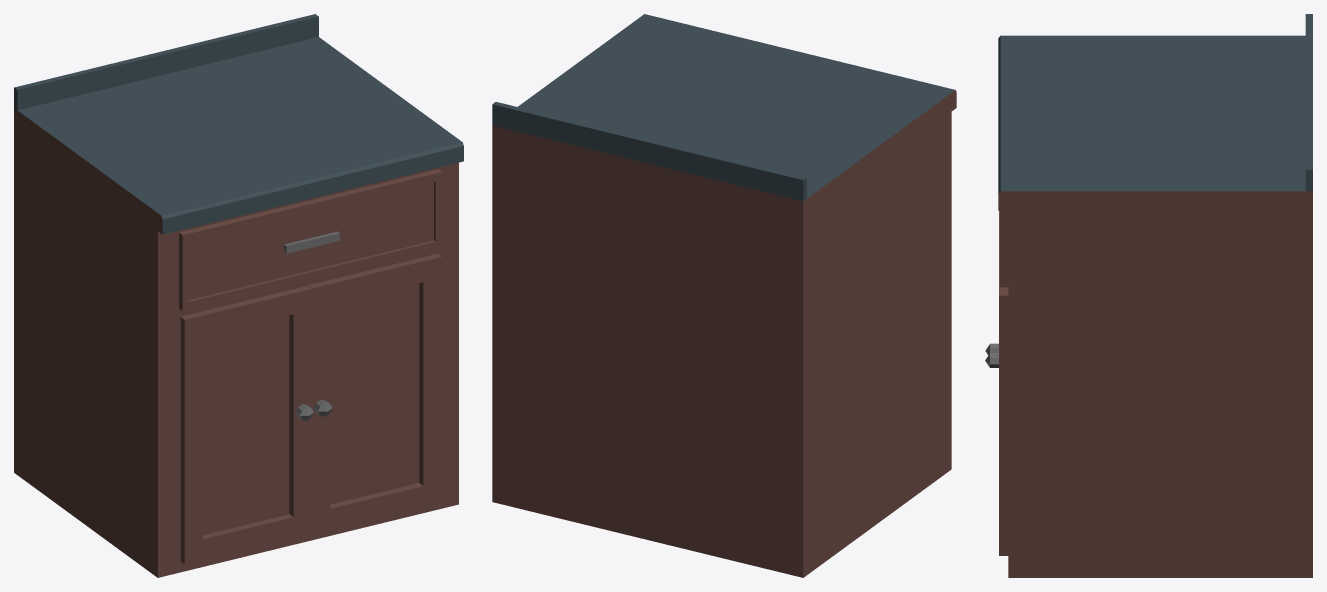
File: Kitchen Table.glb
The picture shows the model from 3 angles, left to right: view 1: azimuth 30°, elevation 25°; view 2: azimuth 150°, elevation 25°; view 3: azimuth 270°, elevation 25°; orthographic projection. The views are drawn at different scales.
Parts seen in each view (by area): view 1: Table; view 2: Table; view 3: Table.
Part boxes in pixels (bbox=[...]): Table: bbox=[14, 14, 463, 577]; Table: bbox=[492, 14, 956, 577]; Table: bbox=[985, 14, 1312, 577].
Bounding box in the file's own units: 0.7744 × 0.9461 × 0.6888.
1 material, 1 textured.
